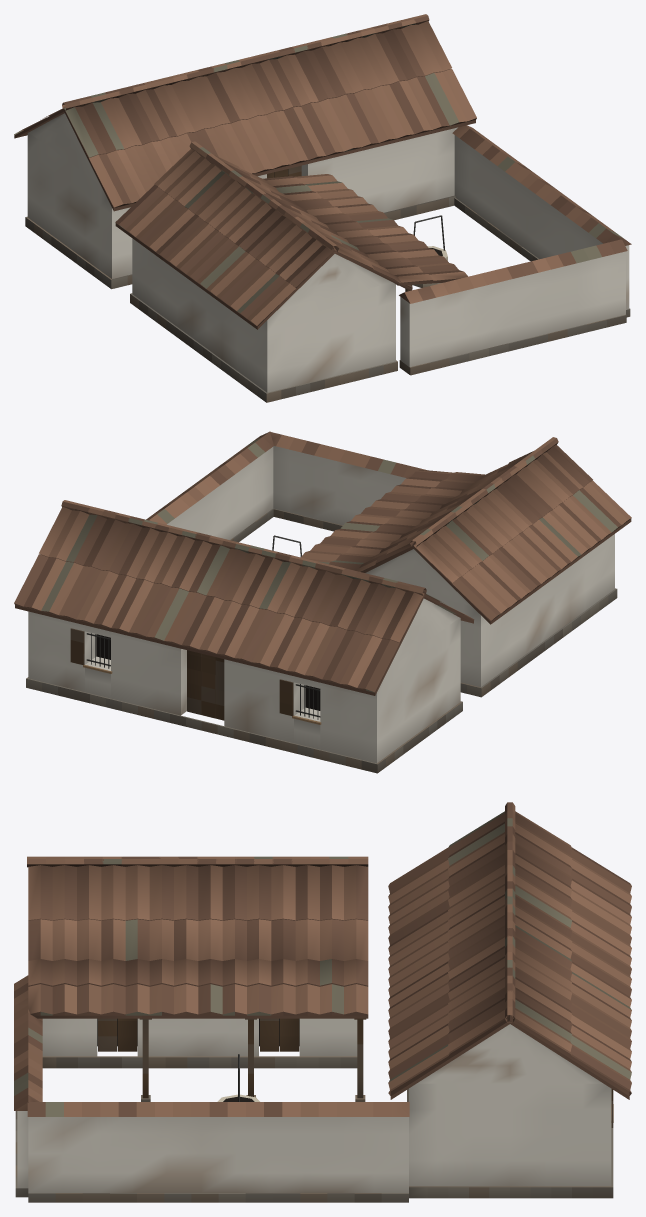
Rendered from casa_patio_b.glb.
The picture shows the model from 3 angles, top to bottom: view 1: azimuth 30°, elevation 25°; view 2: azimuth 150°, elevation 25°; view 3: azimuth 270°, elevation 25°; orthographic projection. The views are drawn at different scales.
Visible parts, largest first — view 1: casa_patio_b; view 2: casa_patio_b; view 3: casa_patio_b.
Part boxes in pixels (x1,y1,x2,y2): casa_patio_b: [14, 14, 631, 402]; casa_patio_b: [14, 431, 631, 773]; casa_patio_b: [14, 802, 631, 1202].
Bounding box in the file's own units: 12.87 × 5.08 × 15.27.
